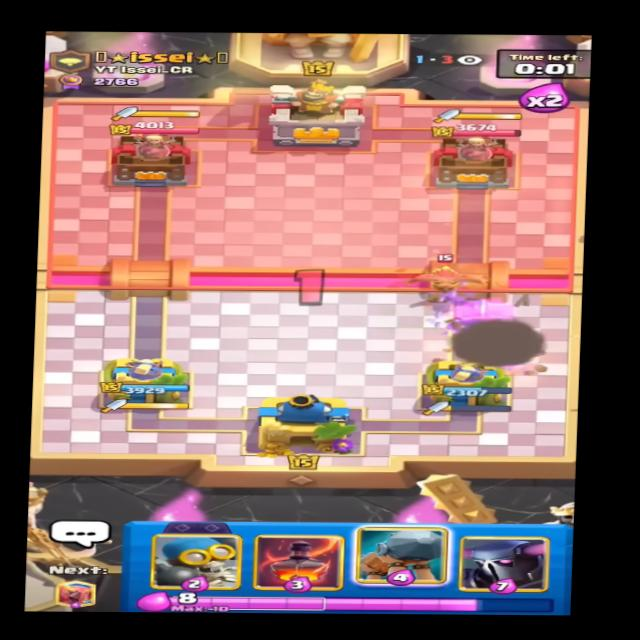phoenix: (403, 254, 495, 293)
